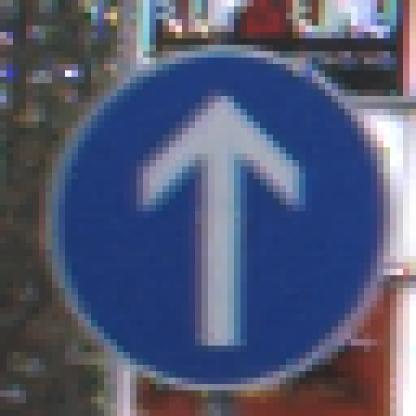AheadOnly: (40, 39, 384, 385)
